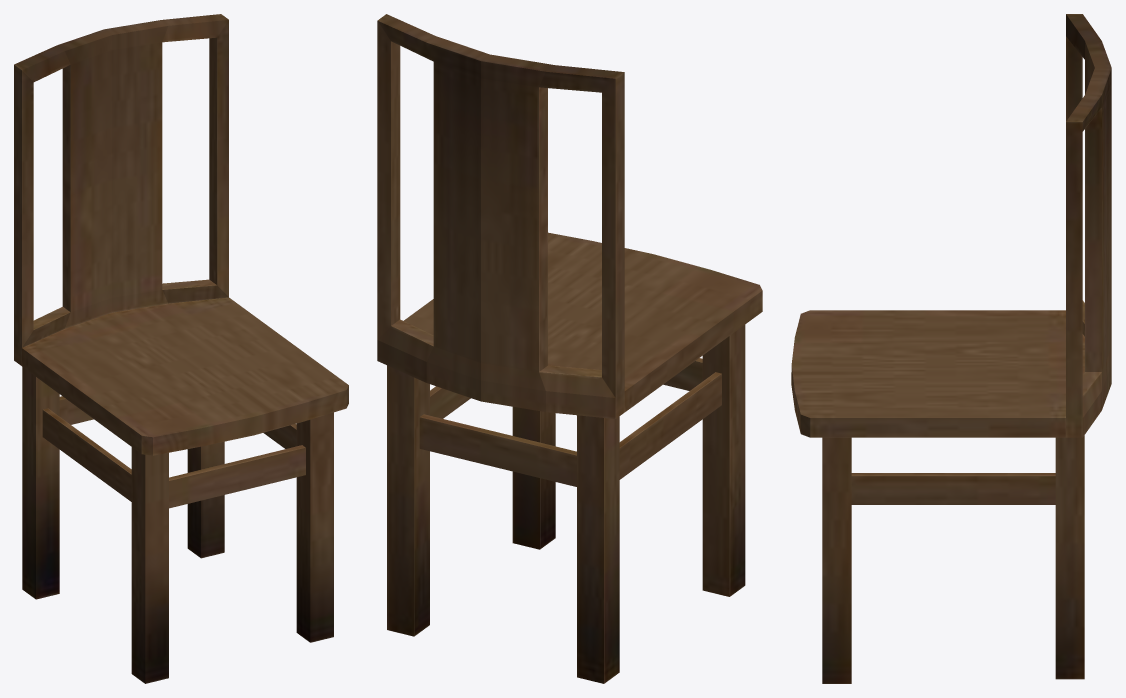
The model's file is Chair.fbx.
3 renders of one model, left to right at view 1: azimuth 30°, elevation 25°; view 2: azimuth 150°, elevation 25°; view 3: azimuth 270°, elevation 25°, orthographic. The views are drawn at different scales.
Visible parts, largest first — view 1: Chair; view 2: Chair; view 3: Chair.
Boxes of the visible parts, x1,y1,x2,y2 form: Chair: (14, 14, 348, 683); Chair: (377, 14, 762, 683); Chair: (791, 14, 1111, 683).
Bounding box in the file's own units: 98.37 × 241 × 124.
1 material, 1 textured.
